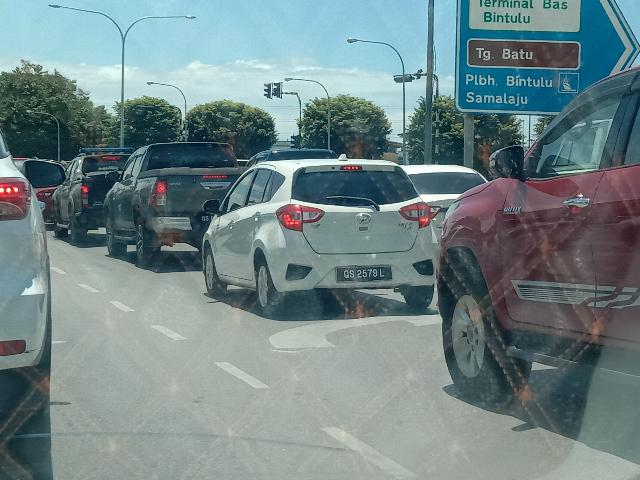License_Plate: (337, 268, 393, 284)
car: (434, 65, 640, 417), (193, 159, 445, 319), (104, 142, 251, 268), (49, 152, 141, 239)
